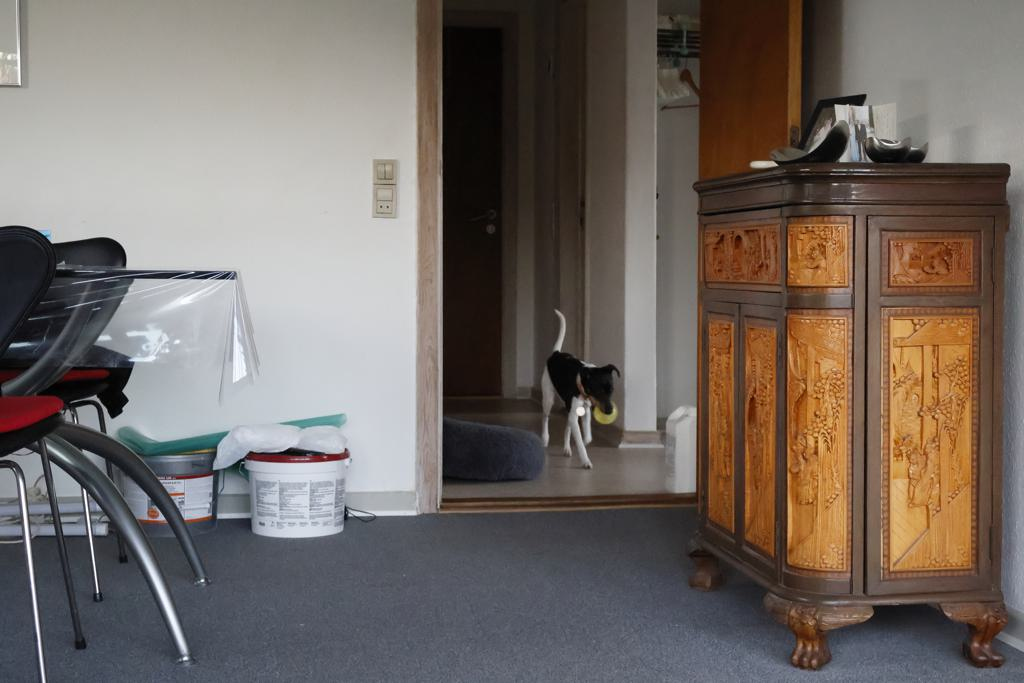Dog: (519, 305, 631, 477)
